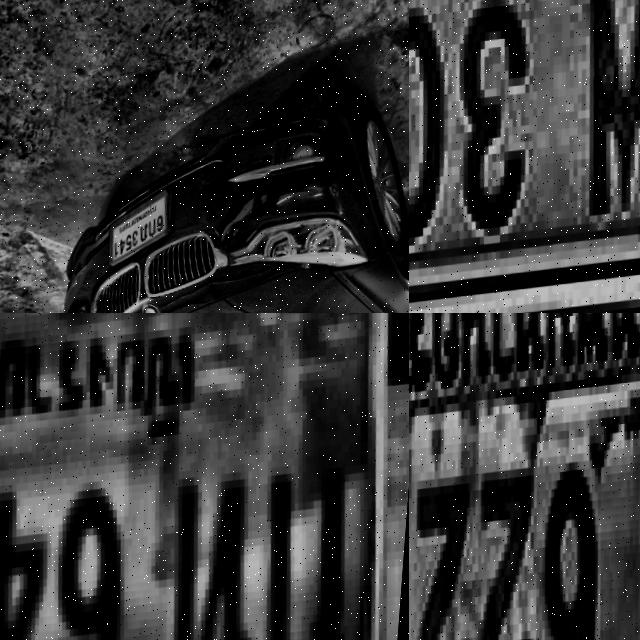license-plate: (0, 313, 409, 640), (409, 313, 640, 640), (409, 0, 640, 313), (107, 192, 180, 270)
